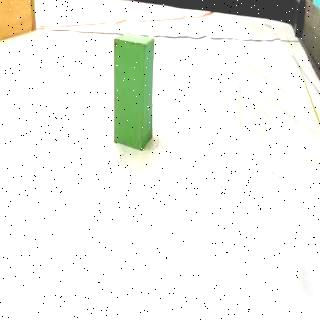greenbox: (111, 31, 156, 151)
